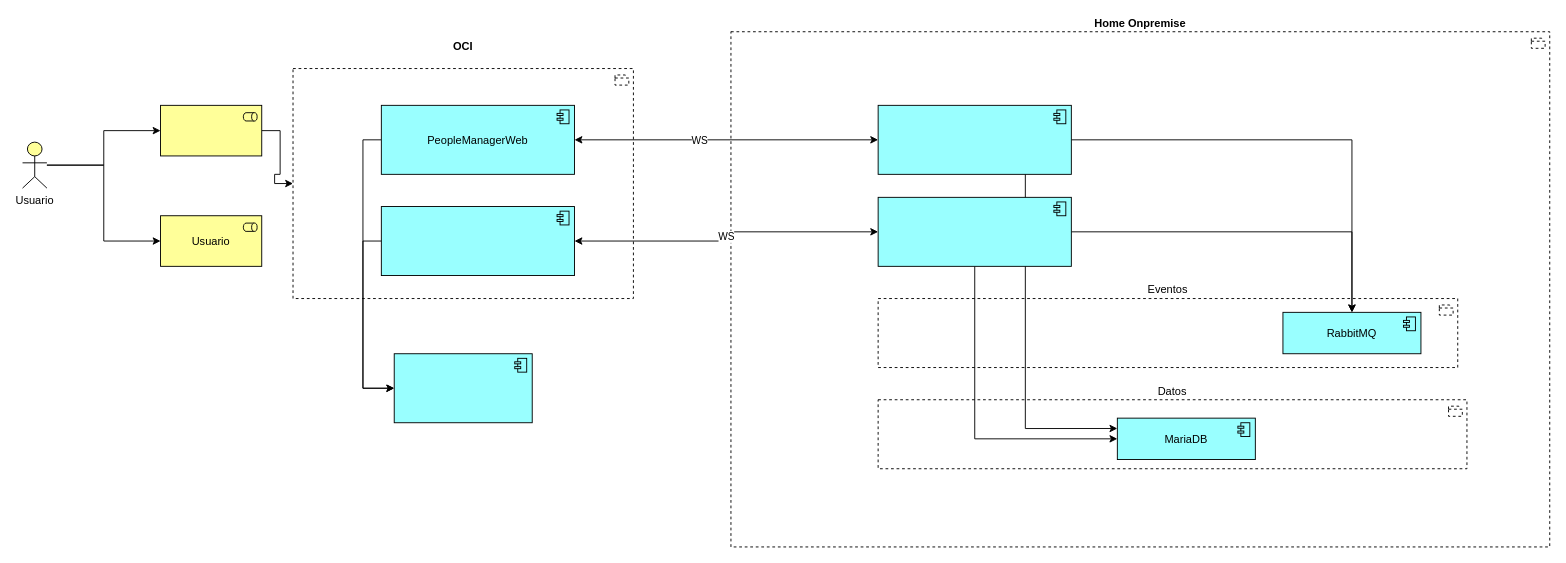
This 1566x563 diagram has some shape labels left out. Each missing label, with the centre of its shape:
"Administrador" goes at [211,130].
"AppointmentManagement" goes at [974,231].
"AppointmentManagementWeb" goes at [477,241].
"Google OpenIdConnect" goes at [462,388].
"PeopleManager" goes at [974,139].
